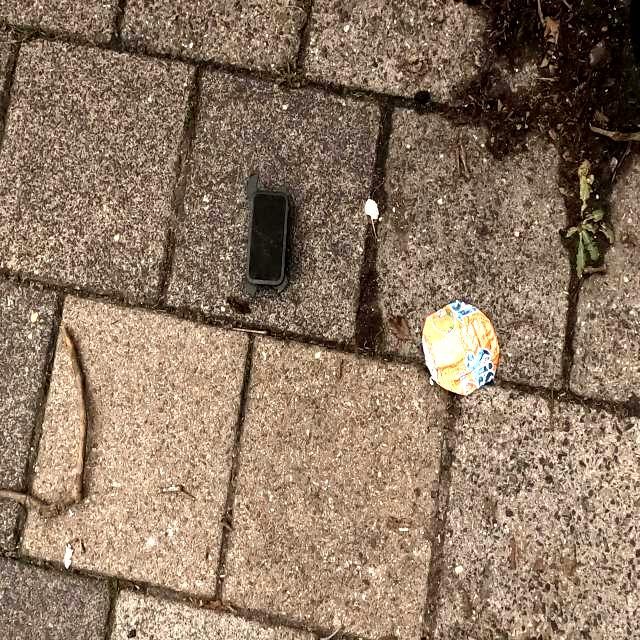Metal: (423, 300, 501, 398)
